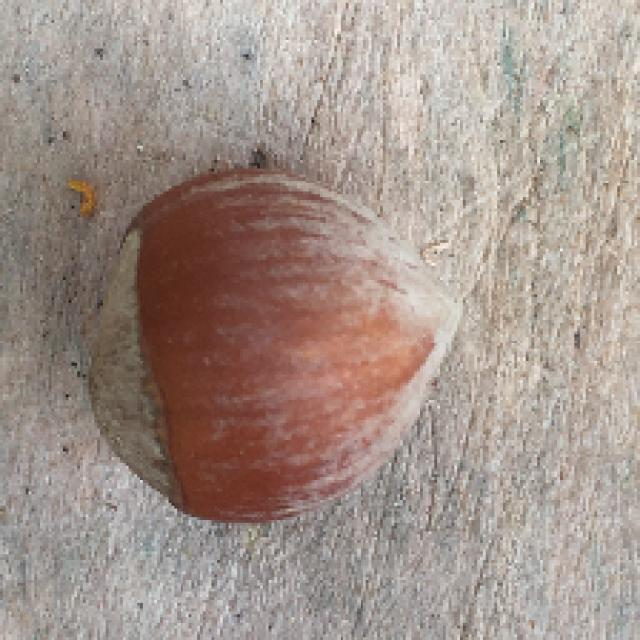qualityHazelnut: (81, 171, 468, 532)
